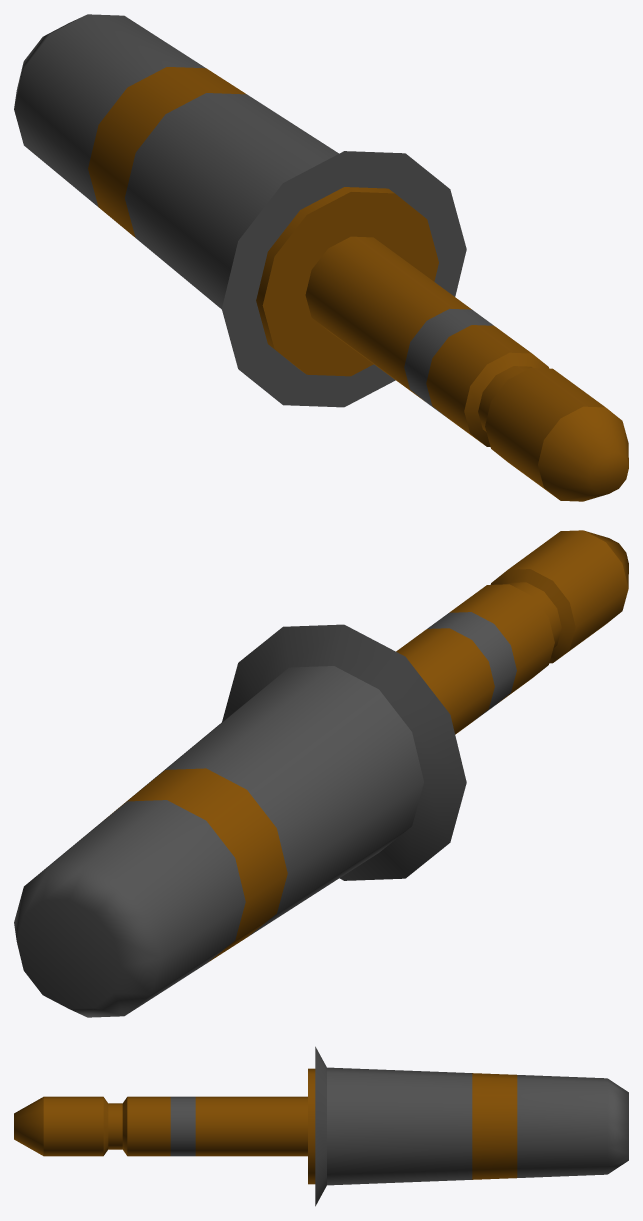
The model's file is Jack.fbx.
3 renders of one model, top to bottom at view 1: azimuth 30°, elevation 25°; view 2: azimuth 150°, elevation 25°; view 3: azimuth 270°, elevation 25°, orthographic. The views are drawn at different scales.
Visible parts, largest first — view 1: pCylinder9; view 2: pCylinder9; view 3: pCylinder9.
Boxes of the visible parts, x1,y1,x2,y2 form: pCylinder9: (14, 14, 628, 501); pCylinder9: (14, 530, 628, 1017); pCylinder9: (14, 1046, 628, 1206).
Bounding box in the file's own units: 3.28 × 3.28 × 12.52.
